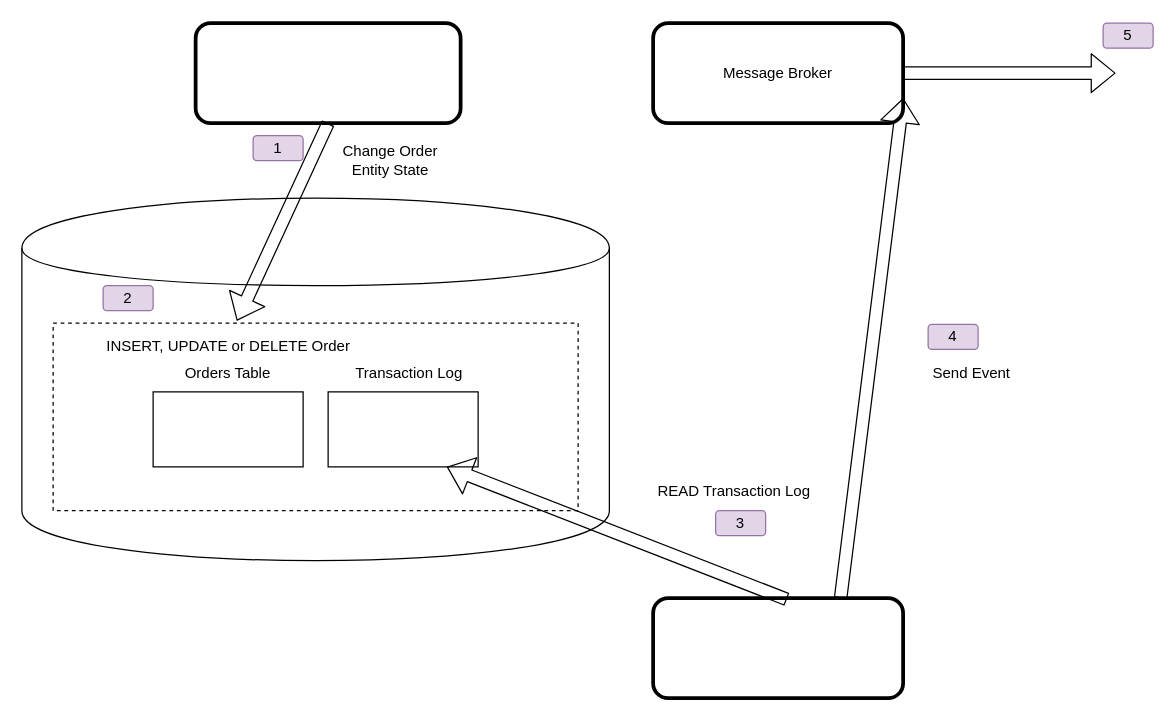
This 1175x721 diagram has some shape labels left out. The shapes that lost their labels are listed below. From the top down, each one's centre as x and y in pixels, then its label:
(x=327, y=72): Order Service
(x=777, y=647): Log Tailing Service
